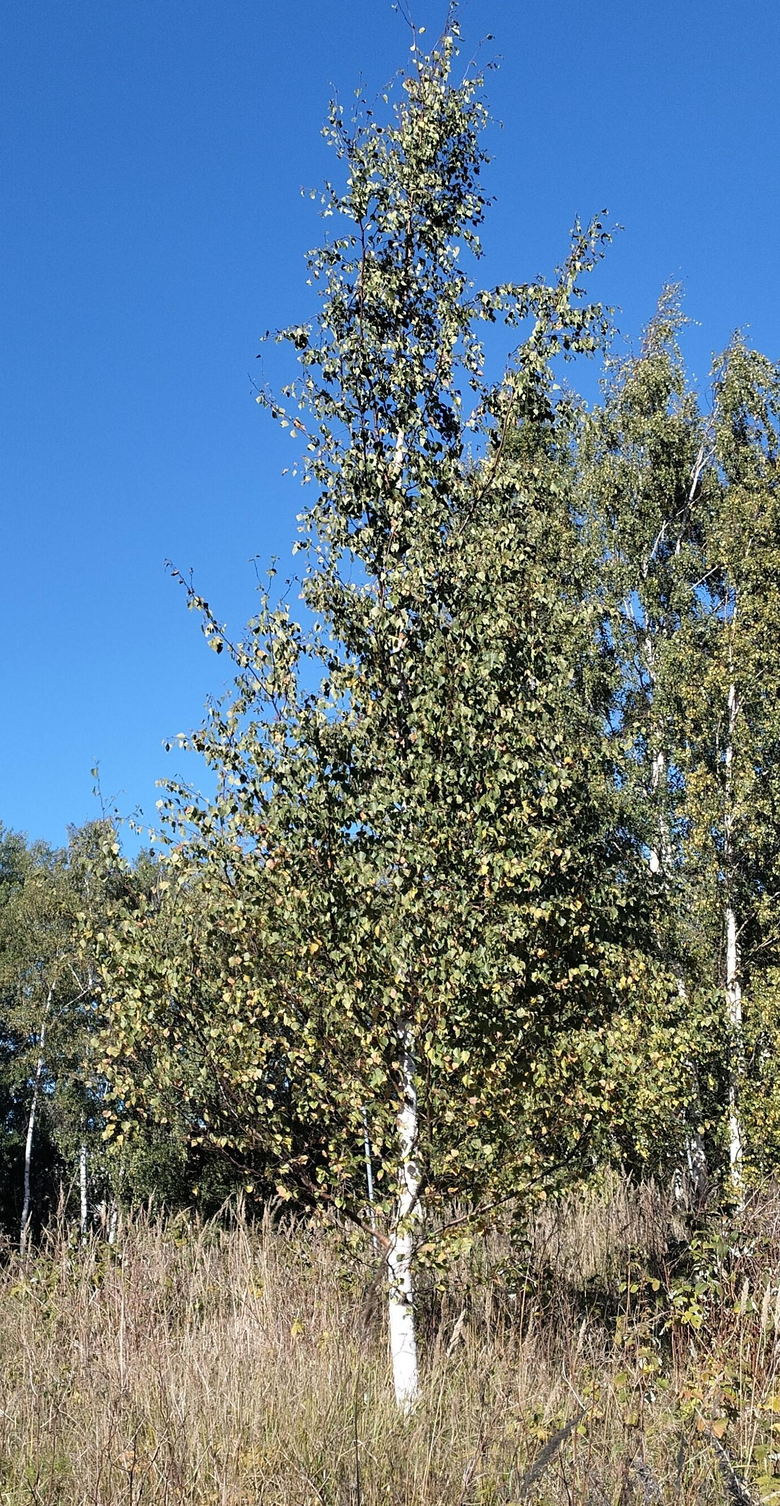Birch: (52, 2, 770, 1416)
